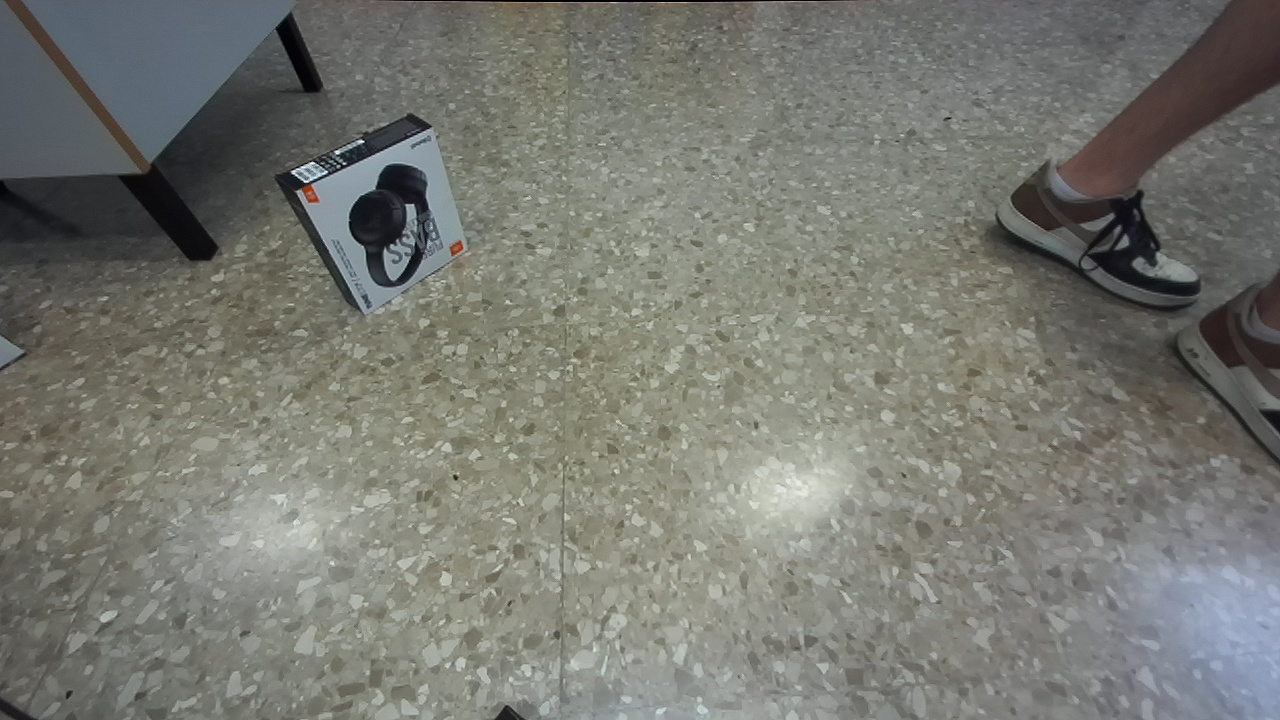caja_chasis: (277, 114, 467, 313)
